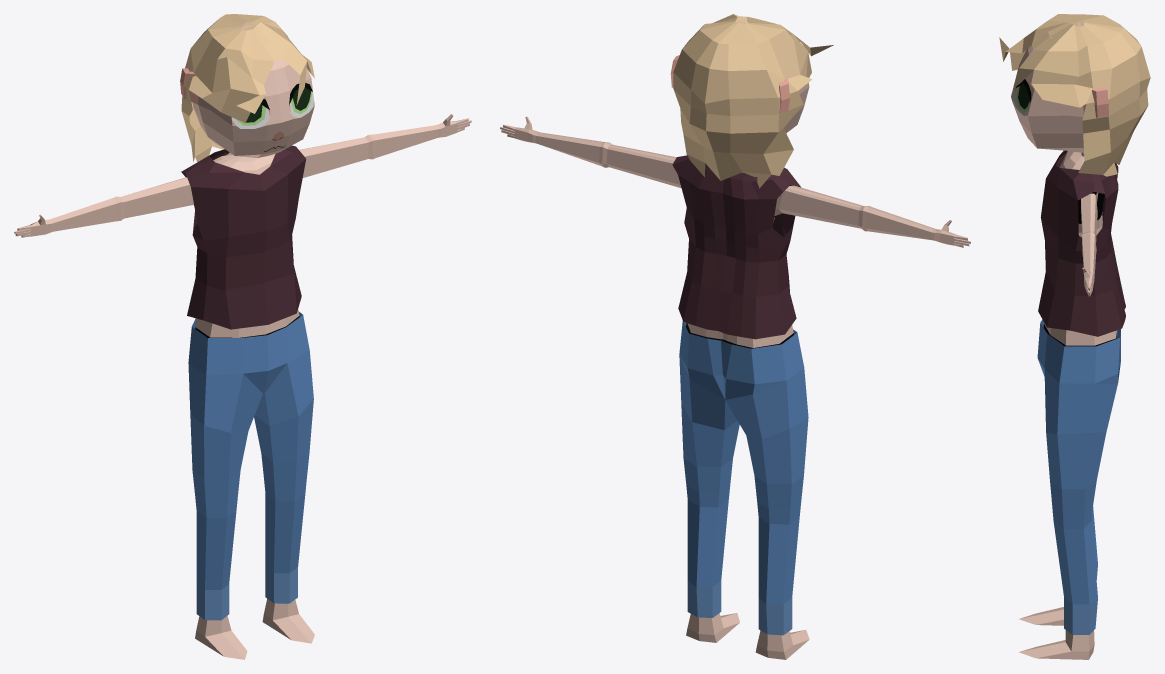
The model's file is Liz.fbx.
3 renders of one model, left to right at view 1: azimuth 30°, elevation 25°; view 2: azimuth 150°, elevation 25°; view 3: azimuth 270°, elevation 25°, orthographic. The views are drawn at different scales.
Parts seen in each view (by area): view 1: Cylinder.002, Cylinder, Cylinder.001, Cylinder.003; view 2: Cylinder.002, Cylinder.003, Cylinder.001, Cylinder; view 3: Cylinder.002, Cylinder.003, Cylinder.001, Cylinder.
Part boxes in pixels (x1,y1,x2,y2): Cylinder.002: (188, 311, 313, 620); Cylinder: (14, 25, 471, 659); Cylinder.001: (181, 145, 305, 329); Cylinder.003: (181, 14, 314, 161); Cylinder.002: (679, 320, 808, 635); Cylinder.003: (673, 14, 833, 188); Cylinder.001: (672, 155, 800, 339); Cylinder: (500, 21, 970, 659); Cylinder.002: (1037, 319, 1120, 634); Cylinder.003: (999, 14, 1150, 176); Cylinder.001: (1038, 150, 1125, 336); Cylinder: (1011, 21, 1116, 659).
Size of the model in its own units: 144 by 183 by 40.83.
